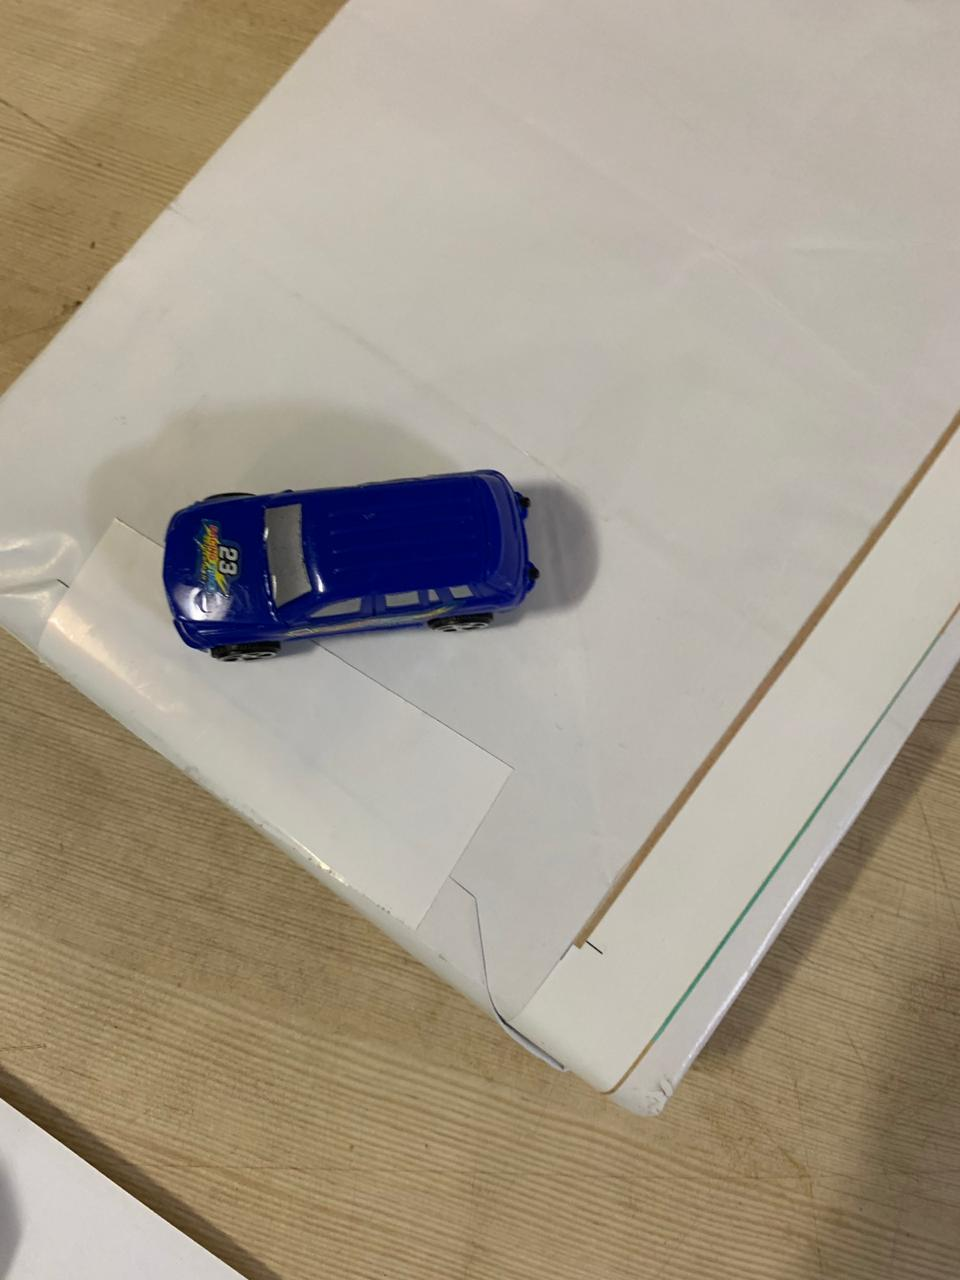car: (159, 491, 541, 650)
